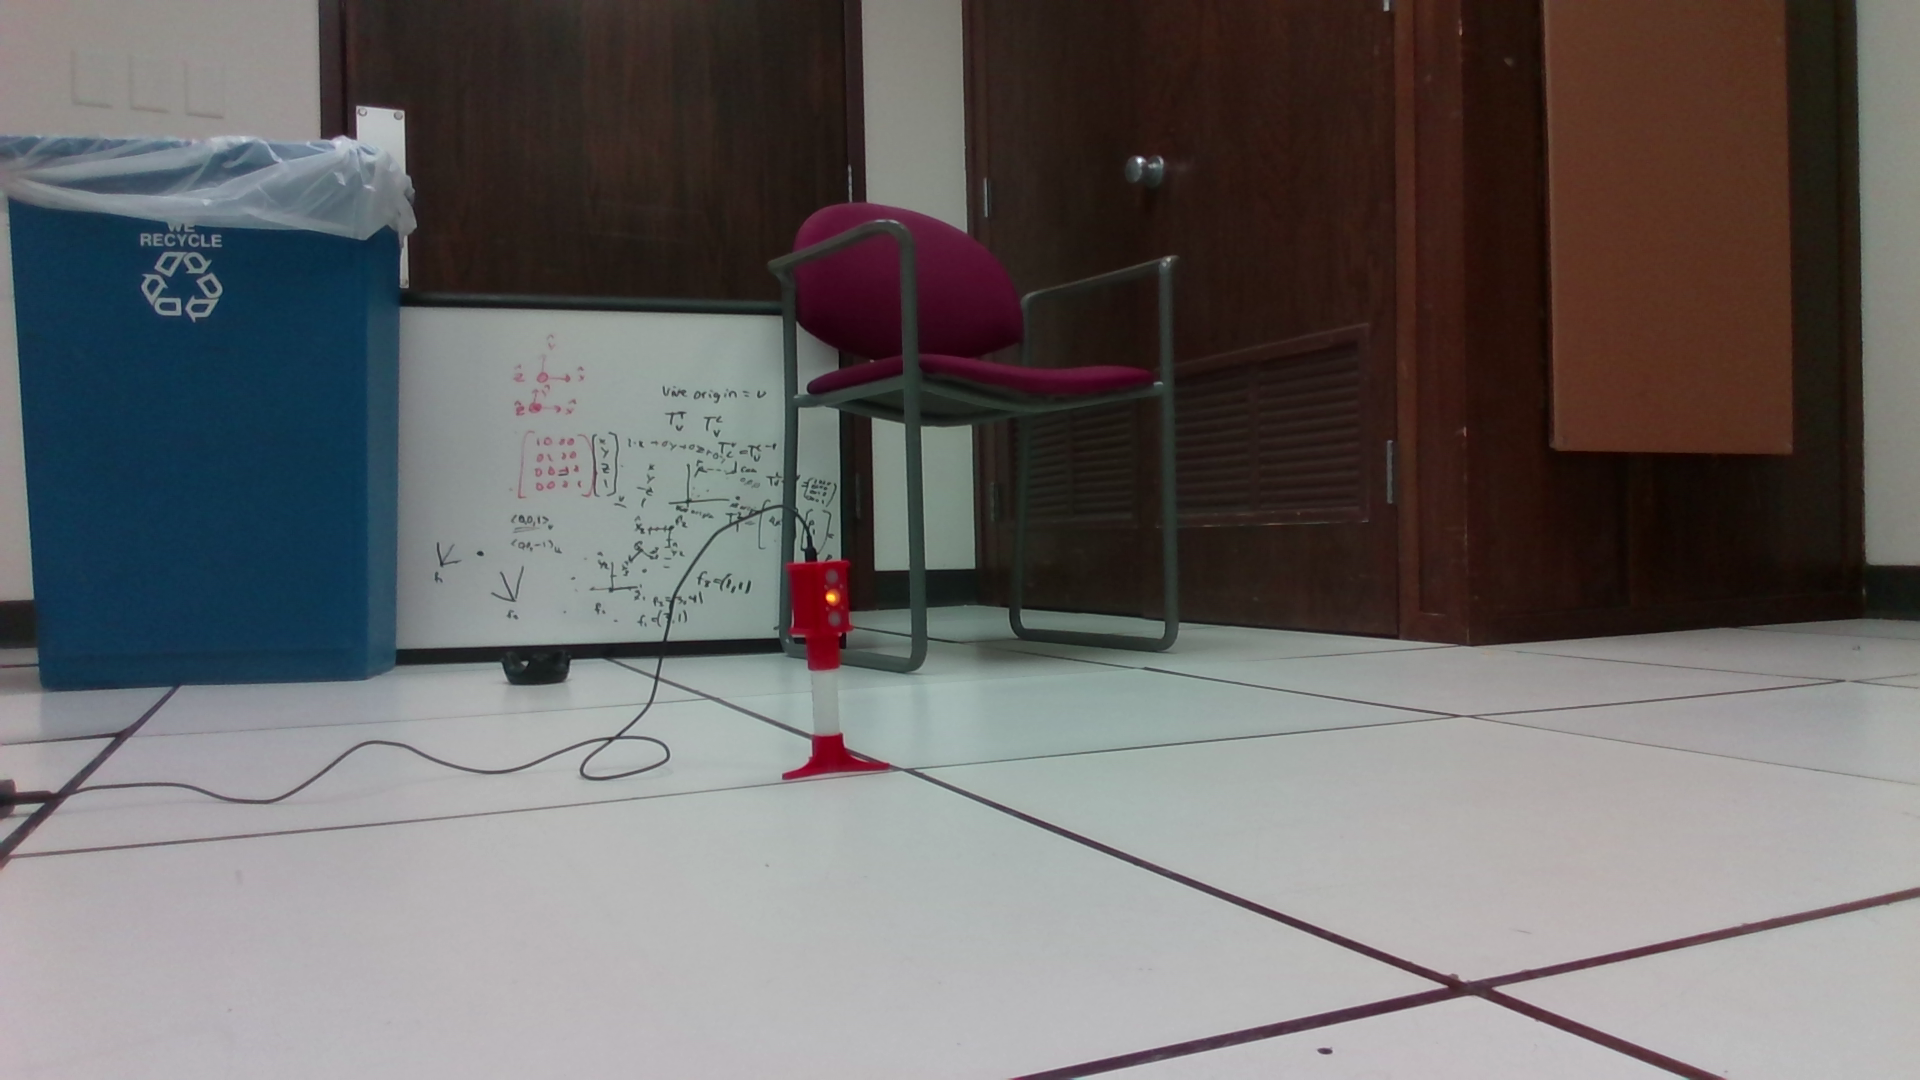stoplight: (789, 560, 855, 674)
